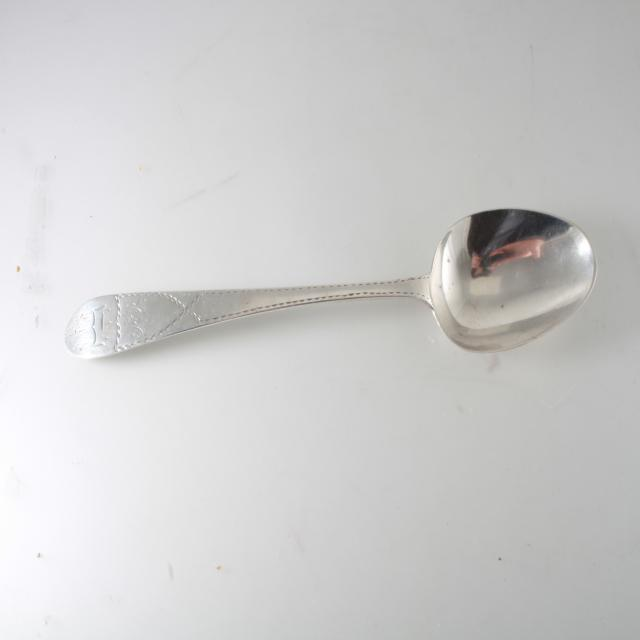spoon: (56, 196, 611, 393)
